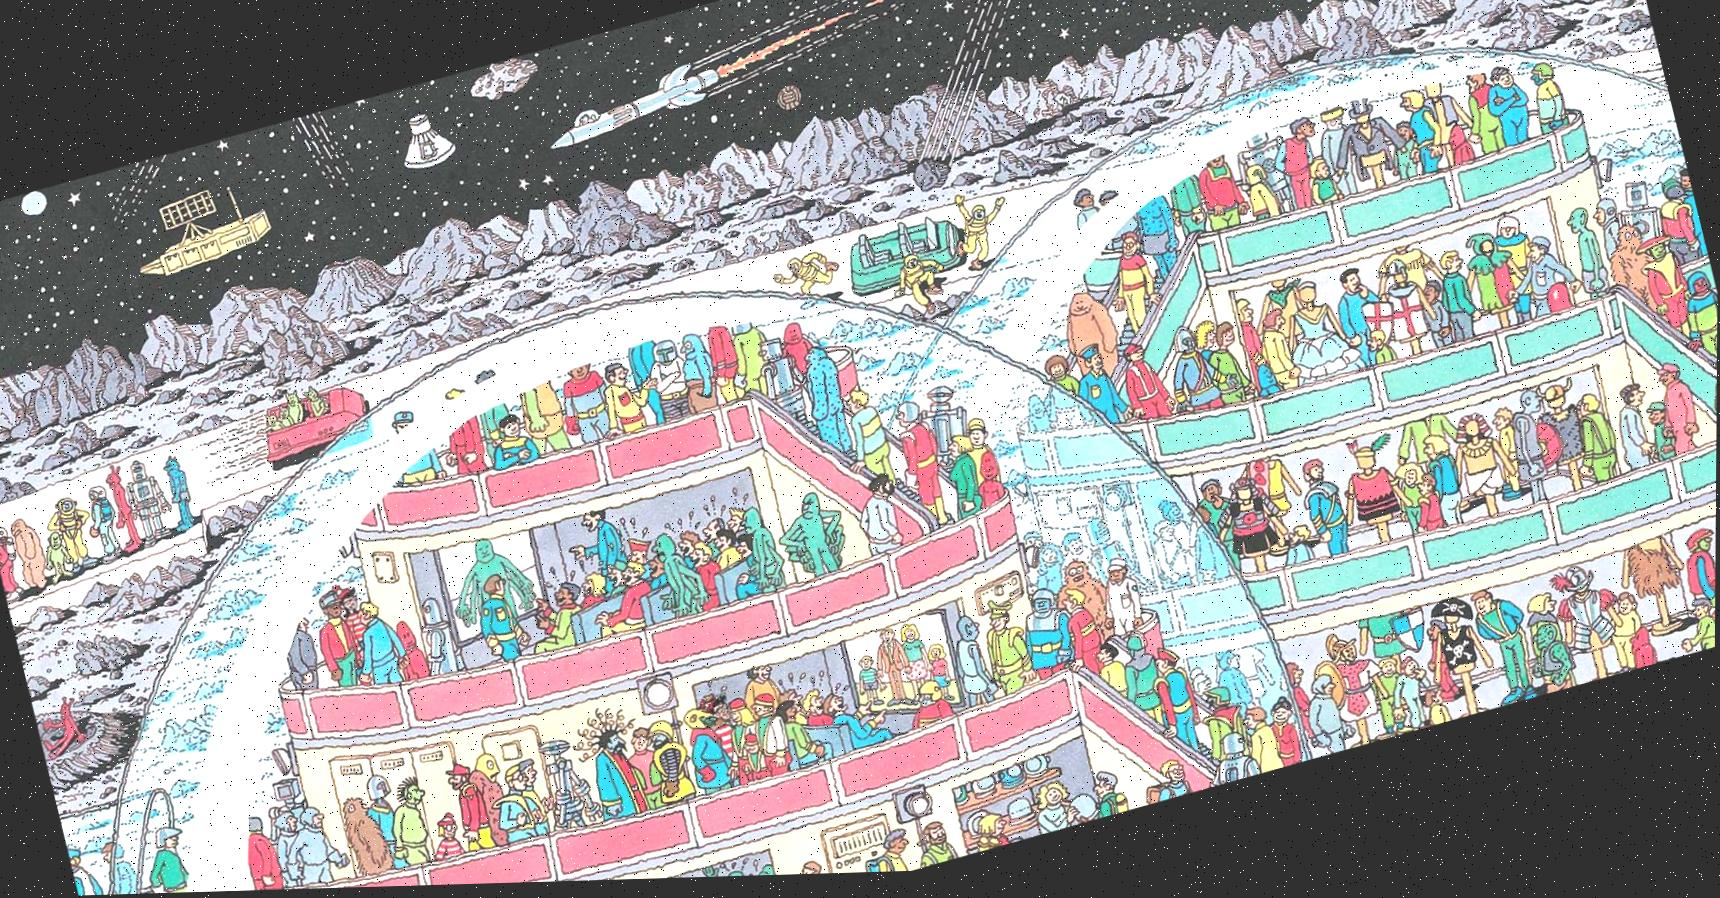waldo: (698, 695, 734, 733)
